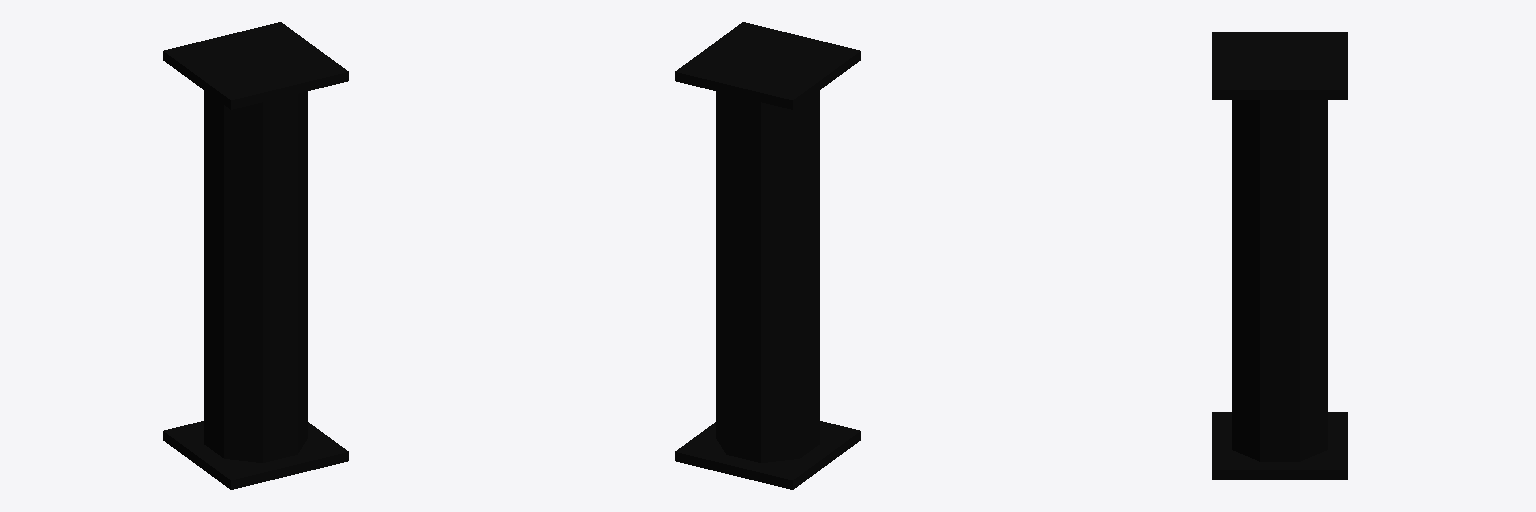
The model's file is SciFiPillar.obj.
3 renders of one model, left to right at view 1: azimuth 30°, elevation 25°; view 2: azimuth 150°, elevation 25°; view 3: azimuth 270°, elevation 25°, orthographic.
Visible parts, largest first — view 1: Cylinder, Cube.001, Cube; view 2: Cylinder, Cube.001, Cube; view 3: Cylinder, Cube.001, Cube.
Part boxes in pixels (x1,y1,x2,y2): Cylinder: (204, 91, 307, 462); Cube.001: (163, 22, 348, 109); Cube: (163, 421, 348, 489); Cylinder: (716, 91, 819, 462); Cube.001: (675, 22, 860, 109); Cube: (675, 421, 860, 489); Cylinder: (1232, 100, 1327, 461); Cube.001: (1212, 32, 1347, 99); Cube: (1212, 412, 1347, 479).
Size of the model in its own units: 2.6 by 8.2 by 2.6.